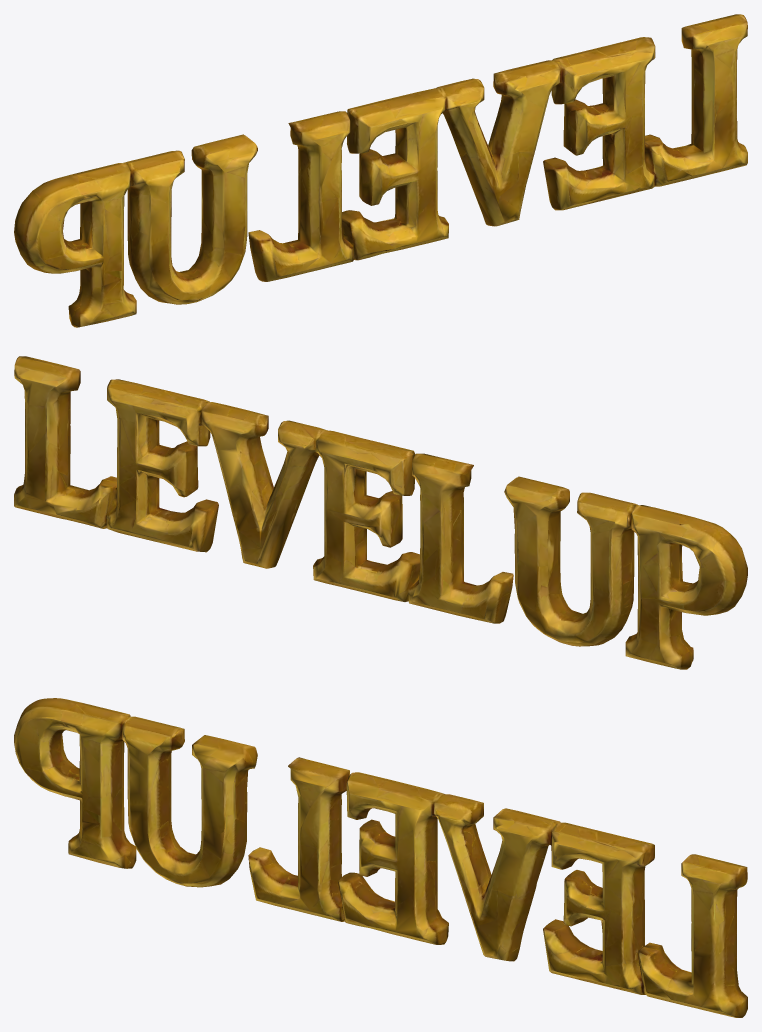
The model's file is level-up.glb.
3 views of the same model, one above another, from view 1: azimuth 30°, elevation 25°; view 2: azimuth 150°, elevation 25°; view 3: azimuth 330°, elevation 25° (orthographic).
Size of the model in its own units: 1.9 by 0.3838 by 0.0964.
Materials: 1 (1 with a texture image).
